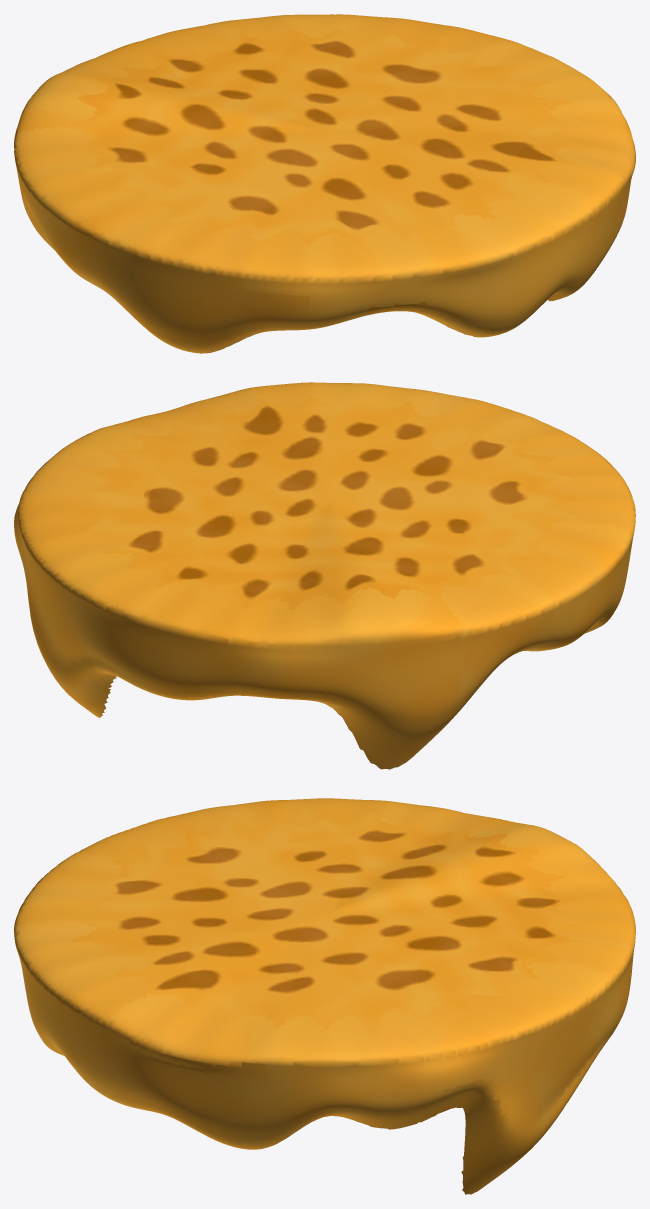
Rendered from PostreSweetHelp_Mermelada_maracuya.glb.
3 renders of one model, top to bottom at view 1: azimuth 30°, elevation 25°; view 2: azimuth 150°, elevation 25°; view 3: azimuth 270°, elevation 25°, orthographic.
Parts seen in each view (by area): view 1: Cremaarriba; view 2: Cremaarriba; view 3: Cremaarriba.
Part boxes in pixels (x1=…): Cremaarriba: x1=14, y1=14, x2=635, y2=353; Cremaarriba: x1=14, y1=382, x2=635, y2=769; Cremaarriba: x1=14, y1=798, x2=635, y2=1194.
Size of the model in its own units: 2.63 by 0.9738 by 2.64.
1 material, 1 textured.
